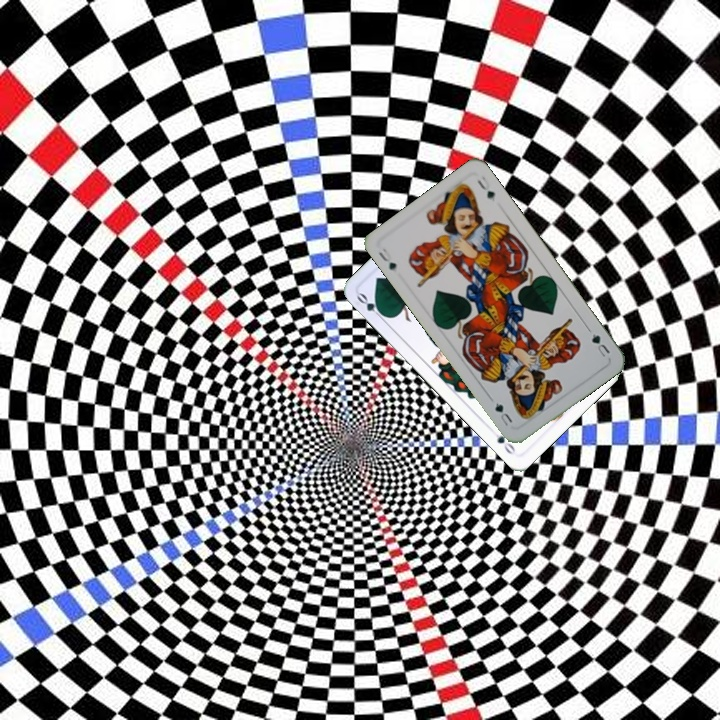GO: (353, 289, 388, 323)
GU: (587, 329, 613, 360), (374, 244, 399, 274)
